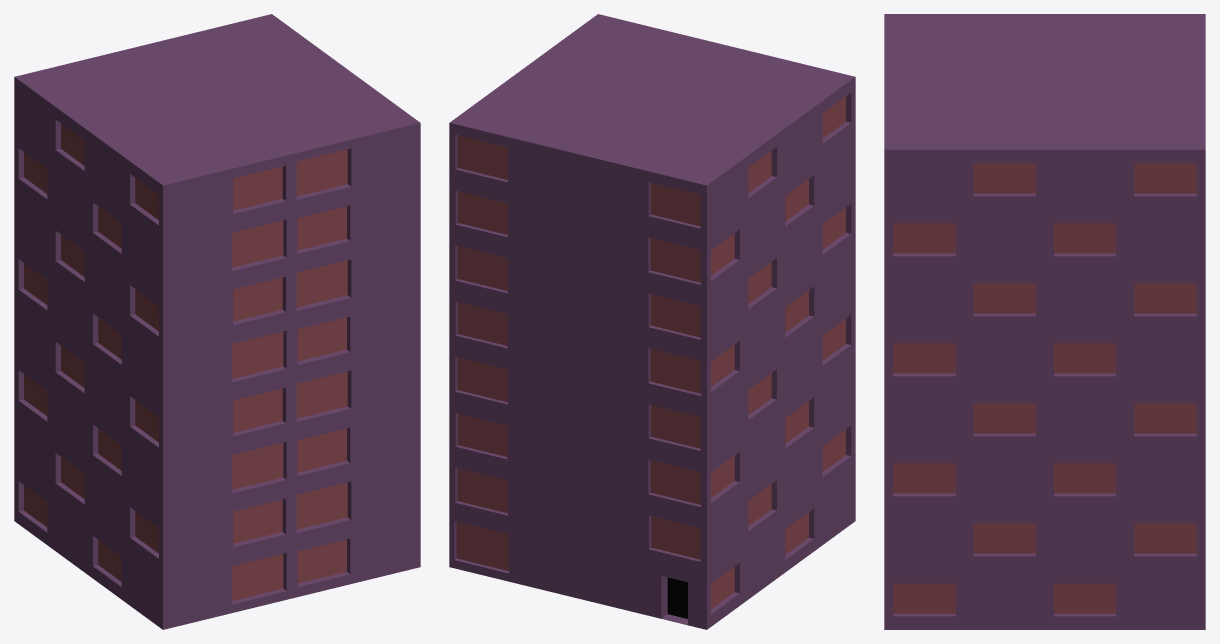
File: Predio4.fbx
3 renders of one model, left to right at view 1: azimuth 30°, elevation 25°; view 2: azimuth 150°, elevation 25°; view 3: azimuth 270°, elevation 25°, orthographic. The views are drawn at different scales.
Parts seen in each view (by area): view 1: Cube; view 2: Cube; view 3: Cube.
Part boxes in pixels (x1=…): Cube: x1=14, y1=14, x2=420, y2=629; Cube: x1=449, y1=14, x2=855, y2=629; Cube: x1=884, y1=14, x2=1205, y2=629.
Bounding box in the file's own units: 133 × 220 × 133.
